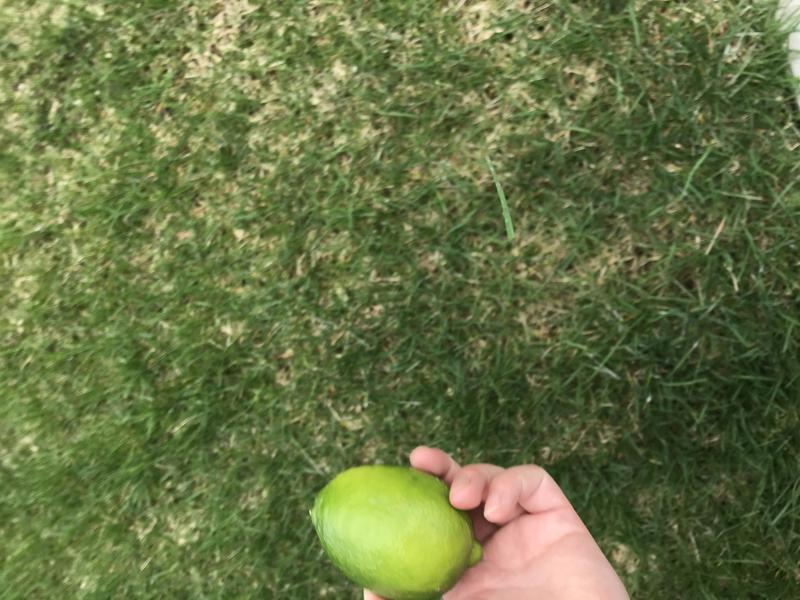lime: (297, 455, 494, 600)
